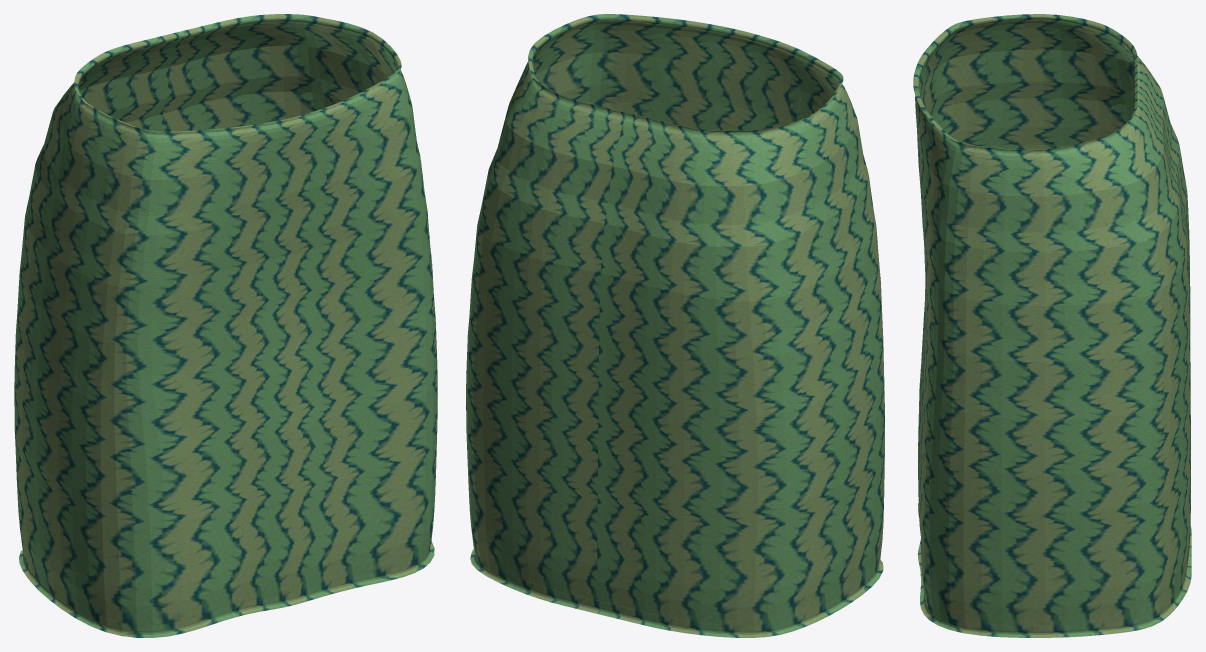
The model's file is medium_skirt_green_stripes.obj.
The picture shows the model from 3 angles, left to right: view 1: azimuth 30°, elevation 25°; view 2: azimuth 150°, elevation 25°; view 3: azimuth 270°, elevation 25°; orthographic projection. The views are drawn at different scales.
Visible parts, largest first — view 1: A3skirt01; view 2: A3skirt01; view 3: A3skirt01.
Part boxes in pixels (bbox=[...]): A3skirt01: bbox=[14, 14, 437, 637]; A3skirt01: bbox=[466, 14, 884, 637]; A3skirt01: bbox=[913, 14, 1191, 637].
Size of the model in its own units: 0.2646 by 0.3419 by 0.1815.
1 material, 1 textured.
